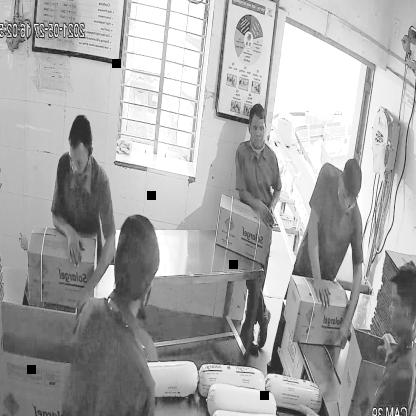no_goggles: (65, 146, 92, 172), (248, 118, 269, 138)
